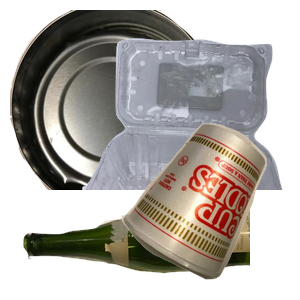glass: (21, 201, 261, 300)
metal: (10, 10, 221, 190)
plastic: (80, 36, 300, 216)
trash: (119, 121, 300, 300)
